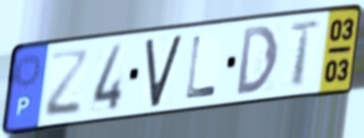4: (89, 42, 125, 113)
D: (235, 23, 280, 99)
L: (184, 33, 219, 102)
T: (287, 18, 324, 89)
V: (143, 31, 185, 110)
Z: (41, 48, 91, 121)
